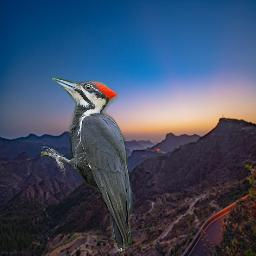Woodpecker: (41, 76, 139, 255)
